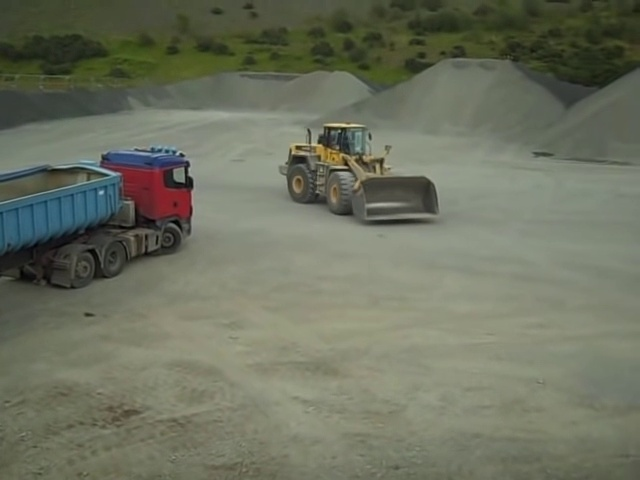truck: (1, 147, 195, 287)
wheel loader: (279, 123, 442, 225)
